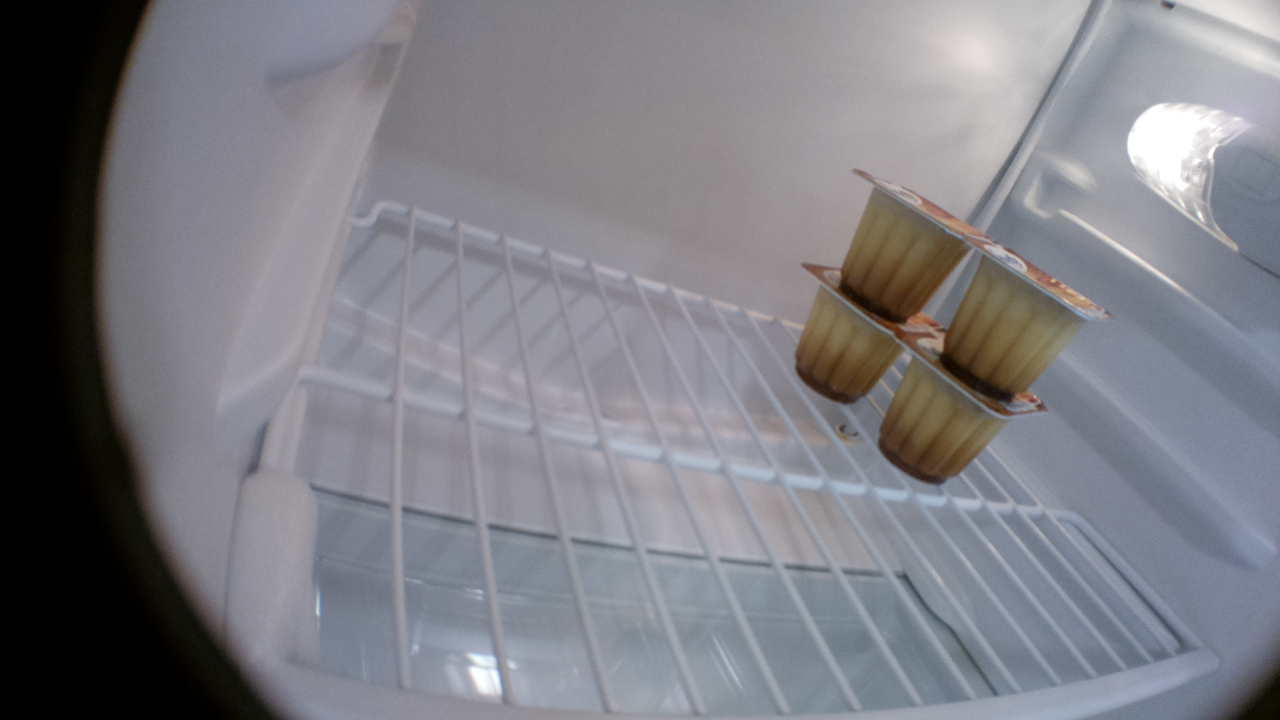caramel: (937, 237, 1114, 398), (877, 327, 1046, 483), (838, 167, 979, 325), (794, 261, 931, 404)
